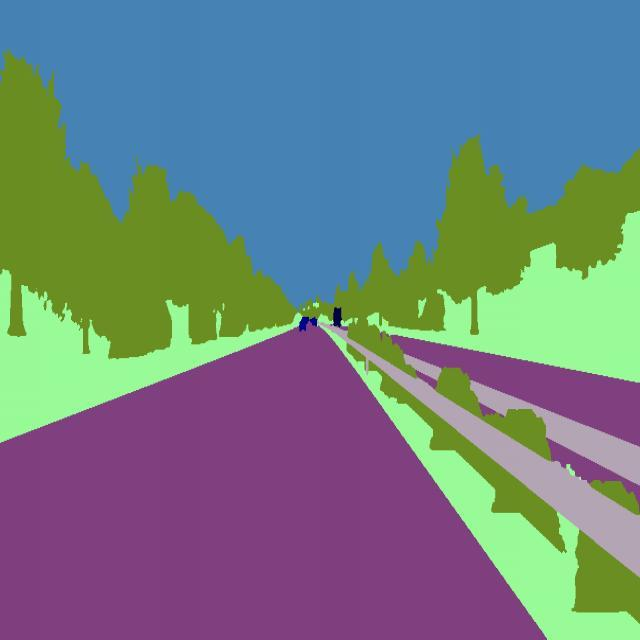safe: (330, 306, 346, 332), (296, 318, 308, 332), (310, 315, 318, 331)
